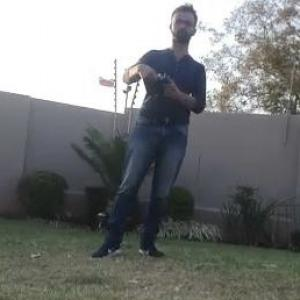follow: (87, 2, 208, 263)
